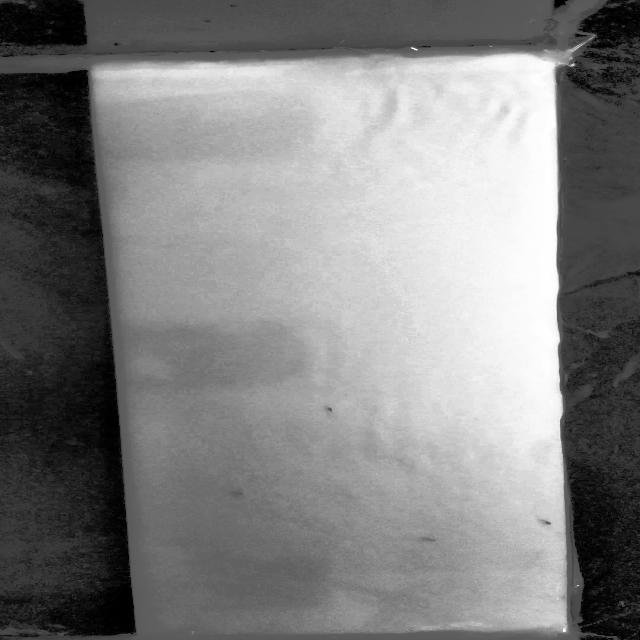shrimp: (204, 482, 262, 503), (405, 532, 453, 548), (310, 404, 354, 421), (530, 514, 558, 535)
